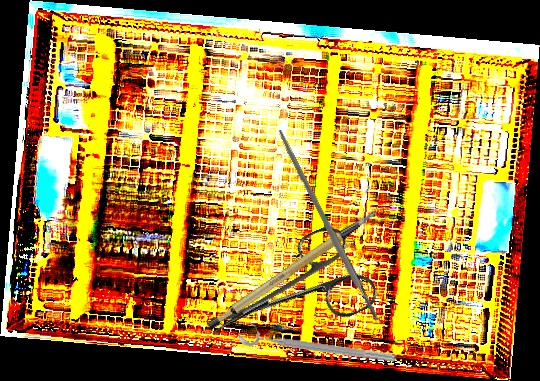Fixation Ring: (236, 319, 399, 367)
Iris Scissors: (192, 218, 382, 372)
Scalpel Handle: (193, 208, 395, 334), (275, 128, 380, 323)
